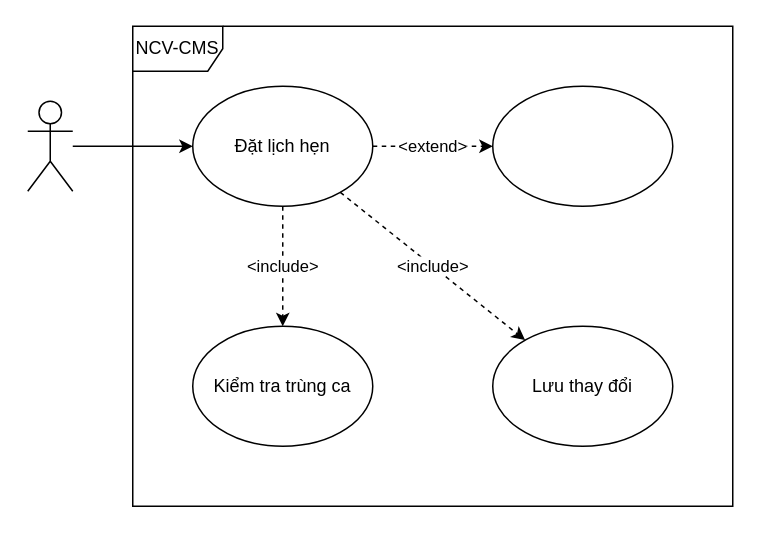
The diagram is 759 pixels wide and 533 high, and some of its shapes have lost their labels. Here are the shapes that lost their labels. From the top down, the centre of each, then its label:
(49,145): Lễ tân
(582,145): Thông báo lỗi
